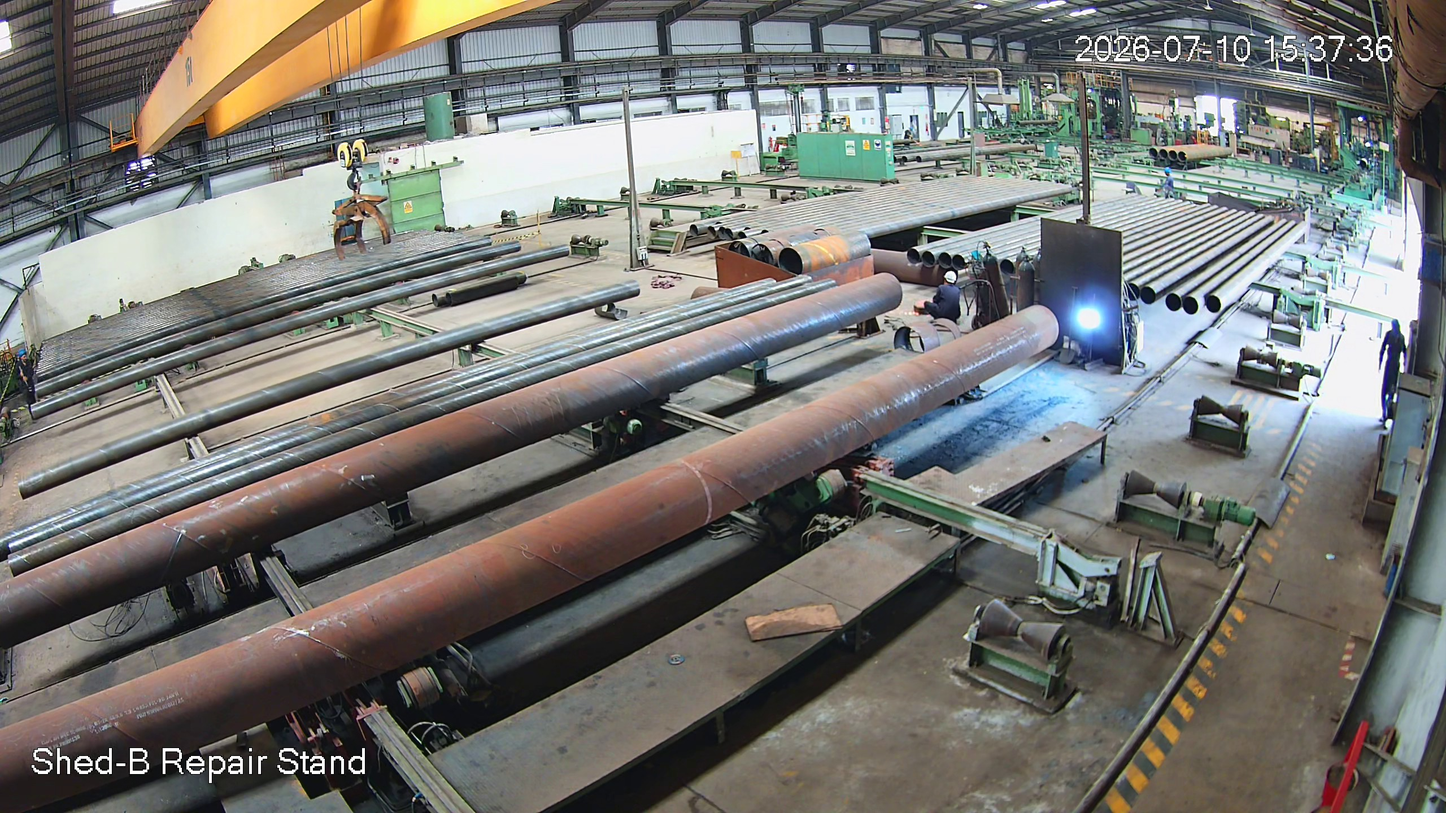Helmet: (939, 266, 960, 295)
Person: (1374, 316, 1413, 429), (925, 271, 964, 324)
